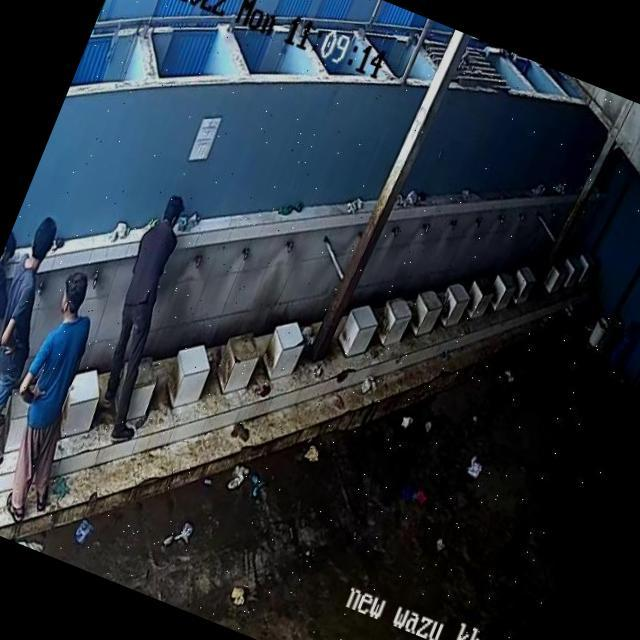person: (74, 189, 220, 436), (0, 279, 130, 510), (0, 216, 85, 485), (0, 240, 37, 473)
